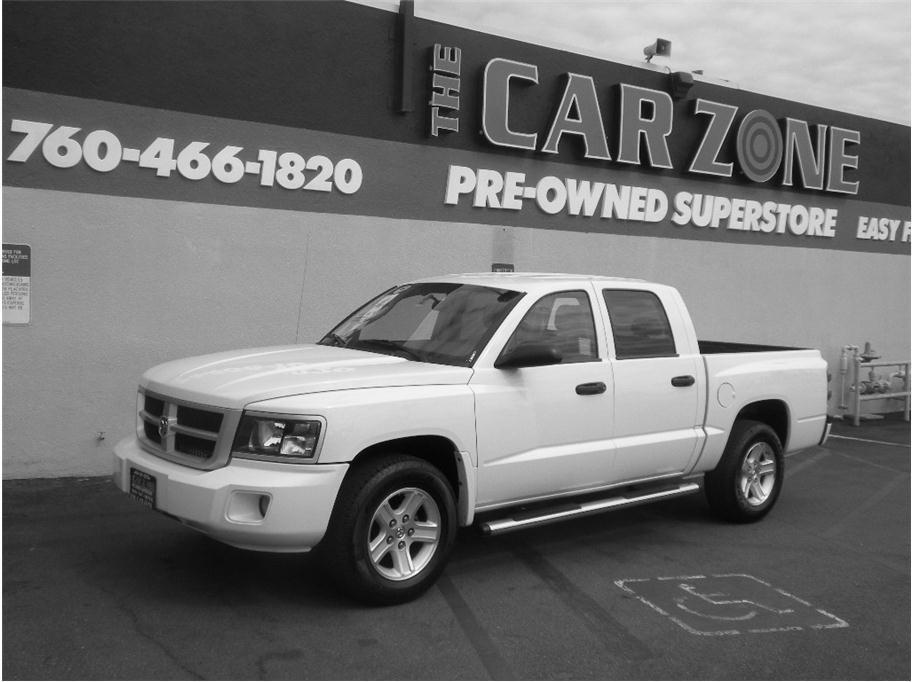car: (110, 260, 836, 611)
